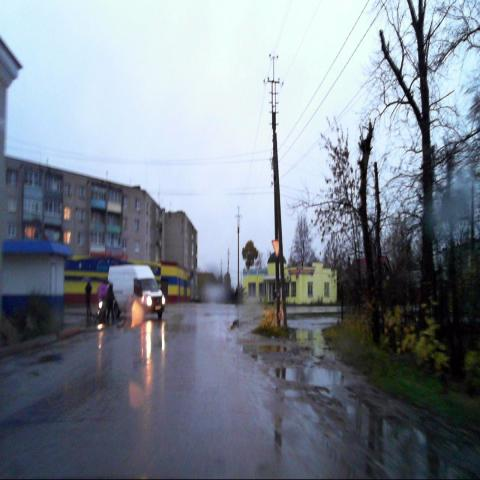2_4: (272, 239, 282, 258)
